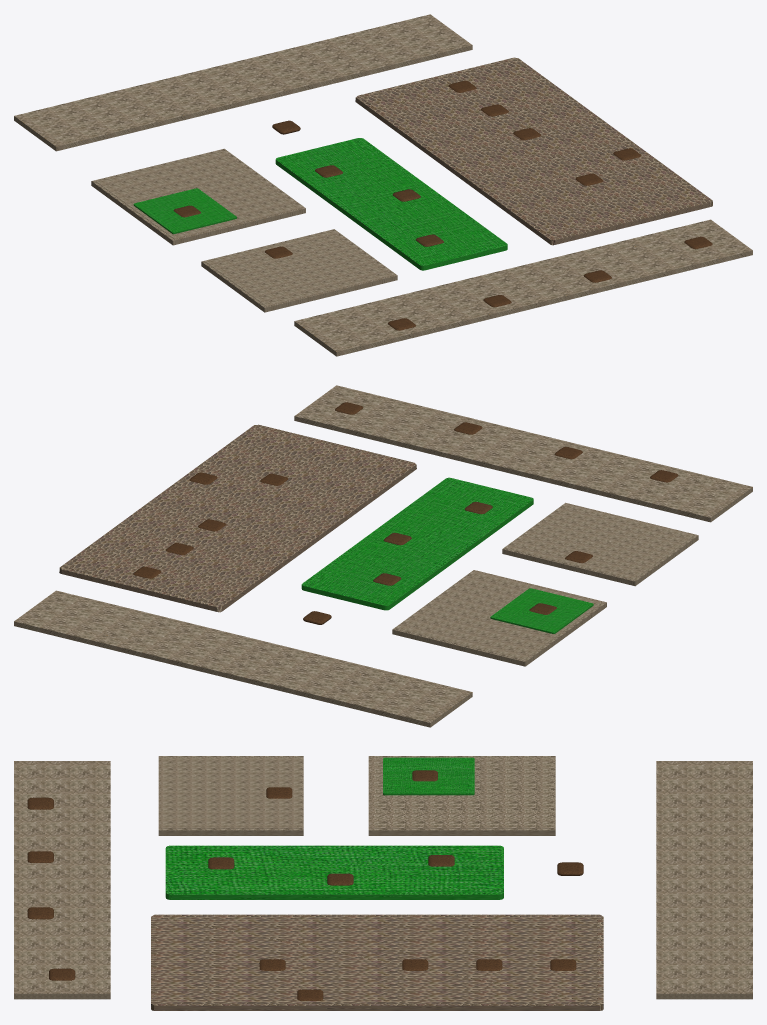
Rendered from Suelo2.FBX.
3 views of the same model, one above another, from view 1: azimuth 30°, elevation 25°; view 2: azimuth 150°, elevation 25°; view 3: azimuth 270°, elevation 25° (orthographic). The views are drawn at different scales.
Parts seen in each view (by area): view 1: Box197, Box302, Box131, Box128, Box129, Box259, Box301; view 2: Box197, Box302, Box131, Box128, Box129, Box259, Box301; view 3: Box197, Box302, Box131, Box128, Box129, Box259, Box301.
Boxes of the visible parts, box(x1,y1,x2,y2) form: Box197: box(355, 57, 712, 245); Box302: box(14, 14, 472, 151); Box131: box(294, 219, 752, 356); Box128: box(275, 138, 507, 270); Box129: box(91, 148, 305, 245); Box259: box(201, 229, 397, 312); Box301: box(133, 188, 236, 234); Box197: box(59, 424, 416, 612); Box302: box(14, 590, 472, 727); Box131: box(294, 385, 752, 522); Box128: box(301, 477, 533, 610); Box129: box(392, 570, 606, 666); Box259: box(502, 502, 698, 586); Box301: box(490, 588, 593, 633); Box197: box(151, 914, 603, 1010); Box302: box(656, 761, 752, 999); Box131: box(14, 761, 110, 999); Box128: box(165, 845, 503, 899); Box129: box(368, 756, 555, 835); Box259: box(158, 756, 303, 835); Box301: box(383, 757, 474, 795).
Size of what is drawn, in the model's own units: 428 by 6.76 by 536.
5 materials, 5 textured.
